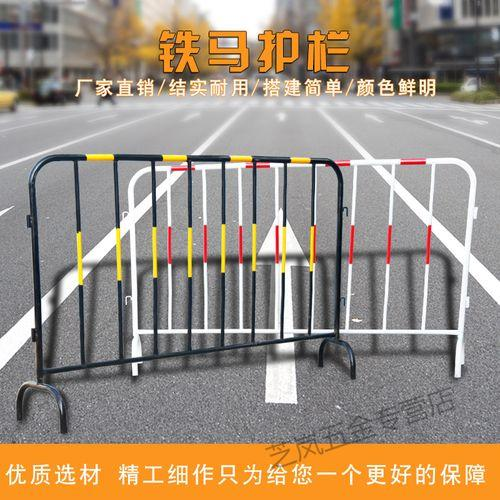sign: (16, 134, 484, 425)
